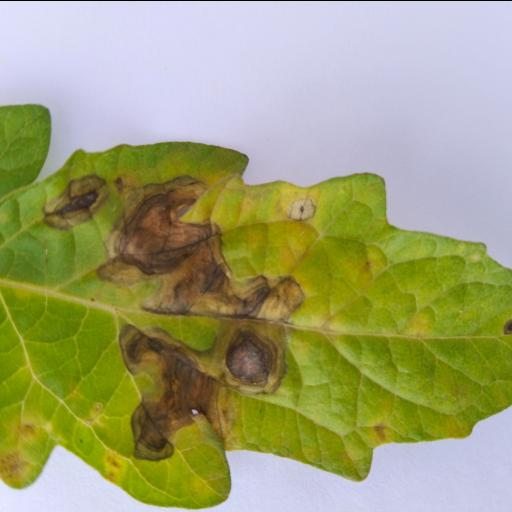Early Blight: (0, 143, 512, 512)
